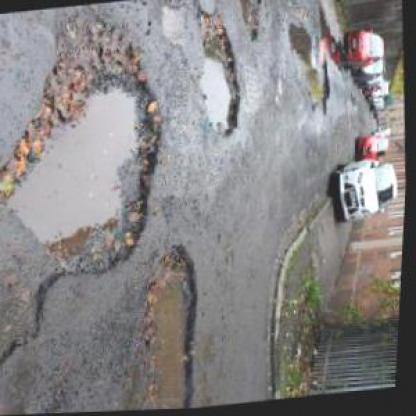pothole: (0, 14, 183, 294), (132, 242, 215, 411), (186, 3, 251, 143), (301, 60, 335, 119), (282, 19, 320, 68)
